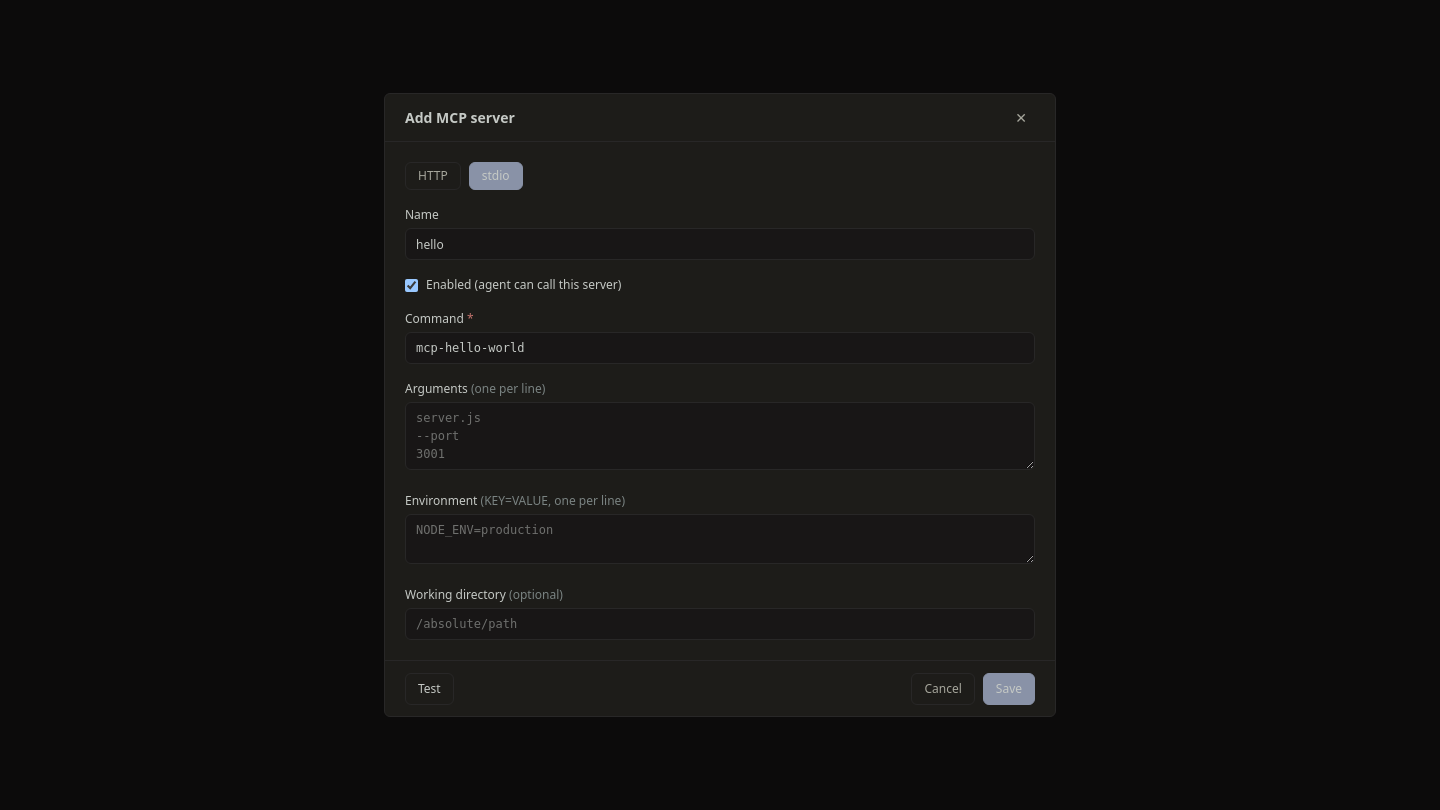
Test case: McpServerModal — stdio transport › renders green check + tool list on test success
This screenshot has width=1440, height=810.
Click the button with test id "test-btn": (429, 688) [405,672,454,704]
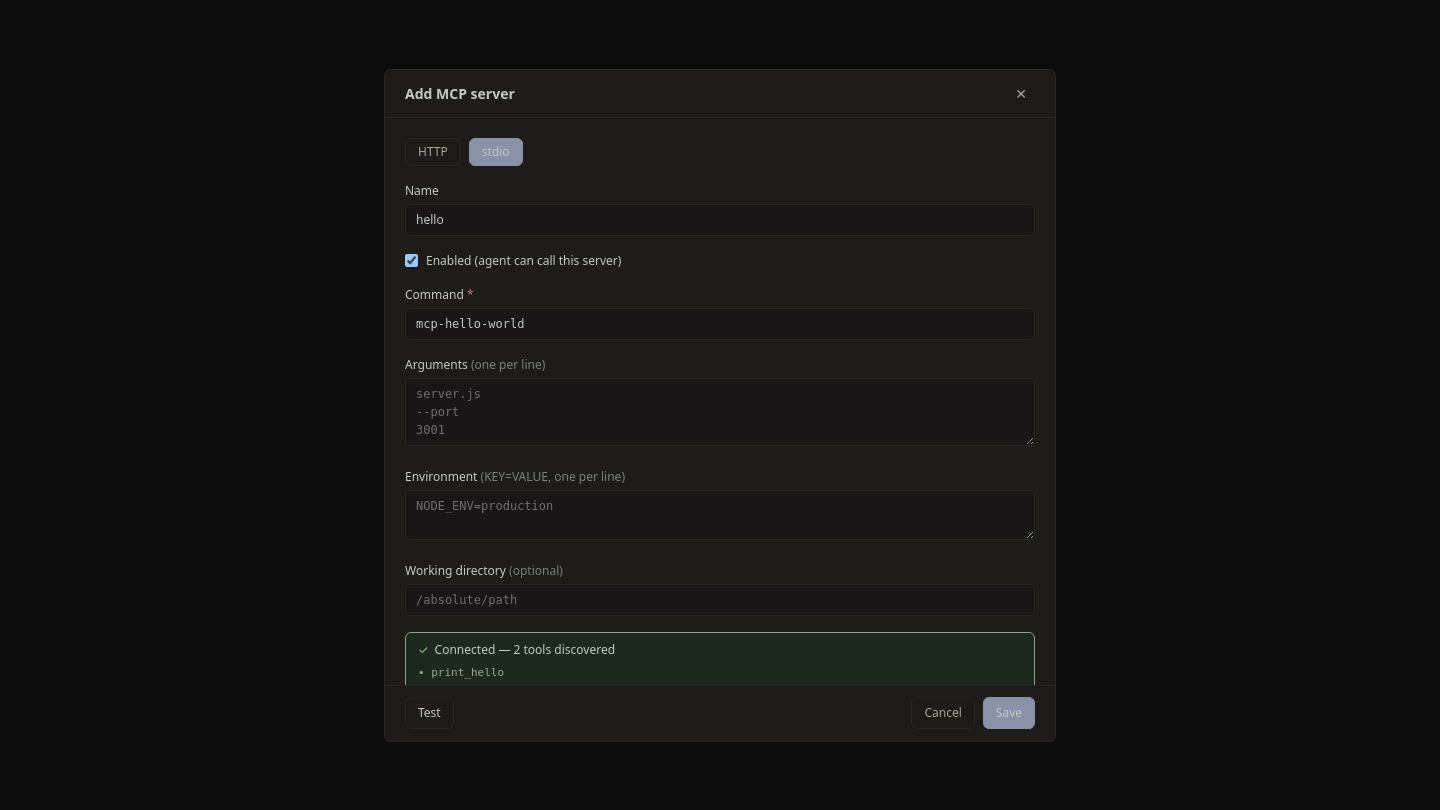
Expected: the element with test id "test-result" is shown, [405,632,1035,684]
Expected: the element with test id "test-result" shows "Connected", [435,640,615,658]
Expected: the element with test id "test-result" shows "2 tools", [435,640,615,658]
